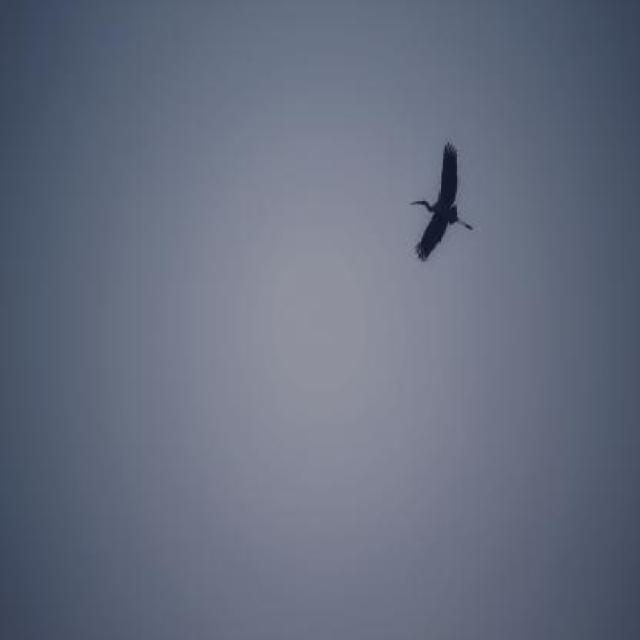bird: (410, 138, 476, 265)
